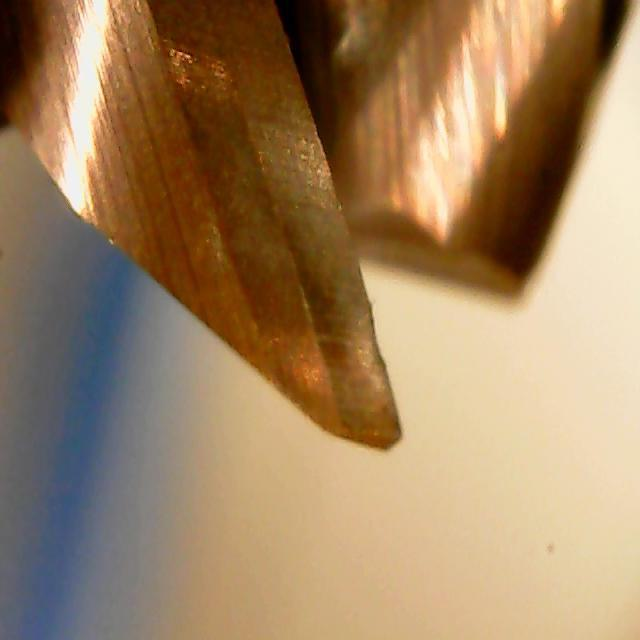Tool-wear-class-1: (293, 283, 423, 480)
